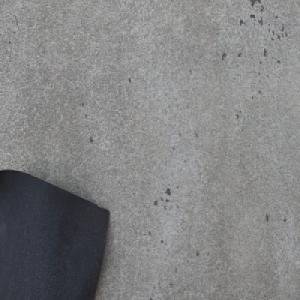PaintChip: (0, 167, 110, 300)
